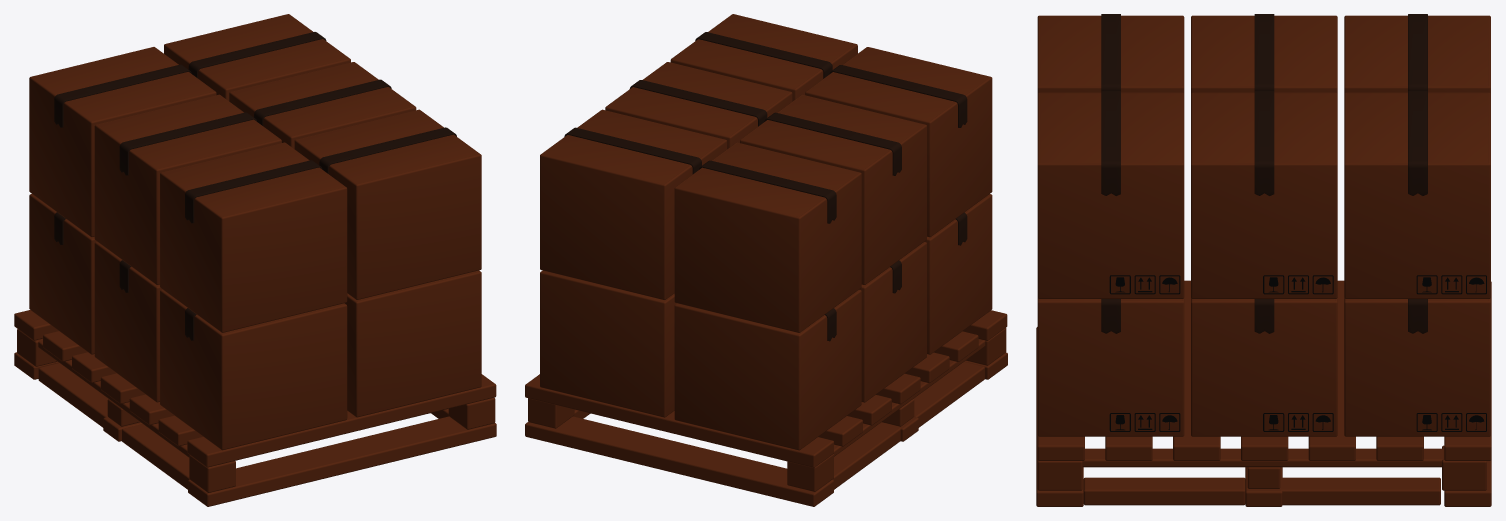
The picture shows the model from 3 angles, left to right: view 1: azimuth 30°, elevation 25°; view 2: azimuth 150°, elevation 25°; view 3: azimuth 270°, elevation 25°; orthographic projection. The views are drawn at different scales.
Parts seen in each view (by area): view 1: Plane.095, Plane.048, Plane.073, Plane.003, Palete, Plane.026, Plane.083, Plane.089, Plane.036, Plane.042, Plane.099, Plane.061 (+15 smaller); view 2: Plane.083, Plane.036, Plane.020, Plane, Palete, Plane.026, Plane.095, Plane.089, Plane.048, Plane.042, Plane.099, Plane.071 (+15 smaller); view 3: Plane.073, Plane.063, Plane.020, Plane.003, Plane.016, Plane, Palete, Plane.004, Plane.071, Plane.093, Plane.061, Plane.081 (+18 smaller).
Boxes of the visible parts, left/top/right/bottom form: Plane.095: left=160, top=142, right=347, bottom=332; Plane.048: left=160, top=289, right=347, bottom=450; Plane.073: left=294, top=109, right=481, bottom=299; Plane.003: left=345, top=270, right=481, bottom=417; Palete: left=14, top=310, right=496, bottom=467; Plane.026: left=14, top=352, right=496, bottom=506; Plane.083: left=29, top=47, right=216, bottom=237; Plane.089: left=94, top=94, right=281, bottom=284; Plane.036: left=29, top=194, right=96, bottom=354; Plane.042: left=94, top=241, right=162, bottom=402; Plane.099: left=162, top=143, right=344, bottom=216; Plane.061: left=166, top=14, right=348, bottom=88; Plane.083: left=674, top=142, right=861, bottom=332; Plane.036: left=674, top=289, right=861, bottom=450; Plane.020: left=540, top=109, right=726, bottom=299; Plane: left=540, top=270, right=676, bottom=417; Palete: left=525, top=310, right=1007, bottom=467; Plane.026: left=525, top=352, right=1007, bottom=506; Plane.095: left=805, top=47, right=992, bottom=237; Plane.089: left=740, top=94, right=926, bottom=284; Plane.048: left=924, top=194, right=992, bottom=354; Plane.042: left=859, top=242, right=926, bottom=402; Plane.099: left=808, top=47, right=989, bottom=121; Plane.071: left=608, top=62, right=789, bottom=136; Plane.073: left=1037, top=92, right=1184, bottom=298; Plane.063: left=1191, top=92, right=1337, bottom=298; Plane.020: left=1344, top=92, right=1490, bottom=298; Plane.003: left=1037, top=298, right=1184, bottom=436; Plane.016: left=1191, top=298, right=1337, bottom=436; Plane: left=1344, top=298, right=1490, bottom=436; Palete: left=1037, top=280, right=1491, bottom=460; Plane.004: left=1083, top=477, right=1440, bottom=505; Plane.071: left=1193, top=93, right=1335, bottom=162; Plane.093: left=1193, top=16, right=1335, bottom=85; Plane.061: left=1346, top=93, right=1488, bottom=162; Plane.081: left=1040, top=93, right=1181, bottom=162.
Bounding box in the file's own units: 1.39 × 1.32 × 1.62.
